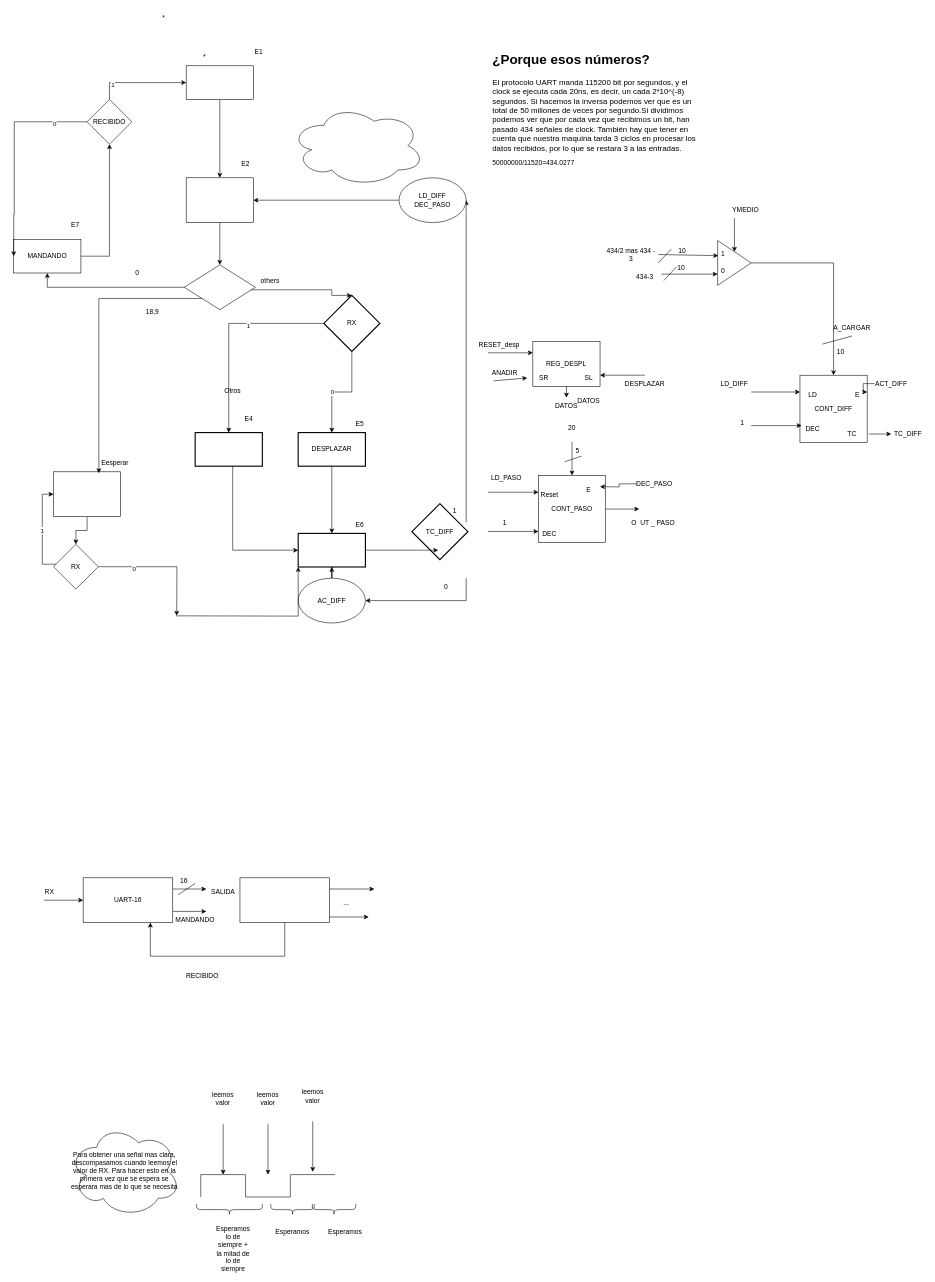
Image size: 935x1282. Some labels were removed from this diagram. Each missing label, with the centre of its shape:
DESPLAZAR ANADIR: point 228,449
Esperamos a que llege la primera señal, la cual es un 0: point 357,145
LCD_DRAWING_V2: point 284,900
LD_PASO RESET_desp: point 219,82
O UT_P ASO: point 219,287
YMEDIO LD_DIFF: point 87,494
